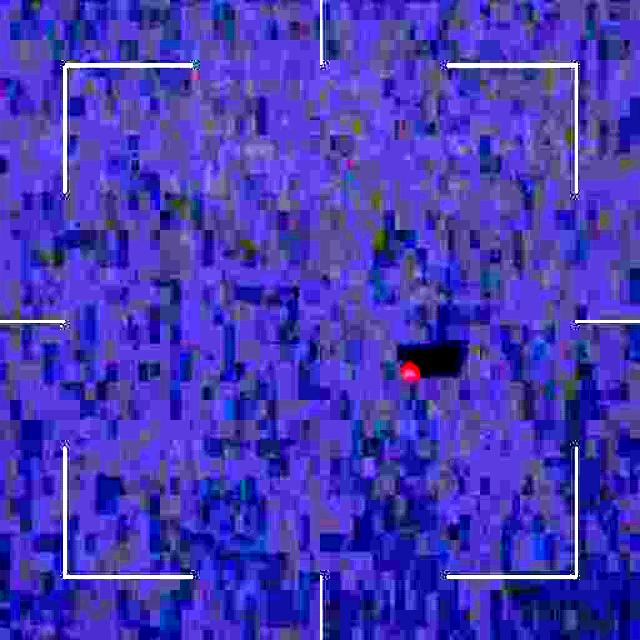bird: (405, 349, 436, 399)
